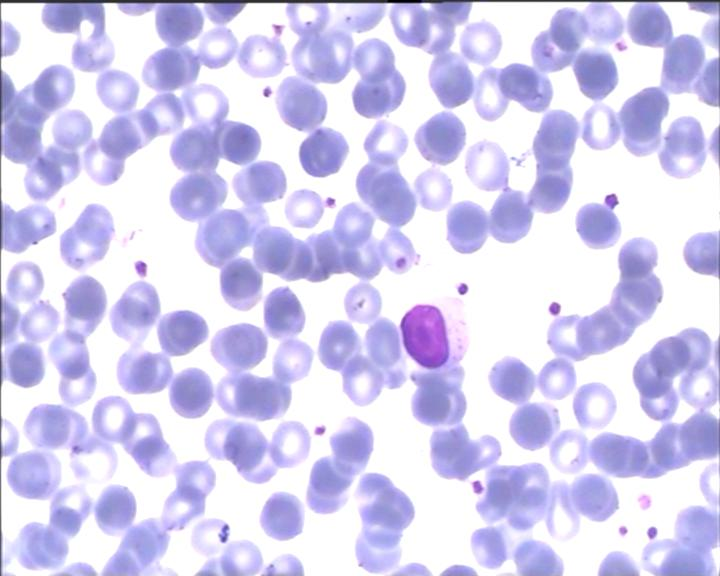mono: (395, 290, 472, 373)
